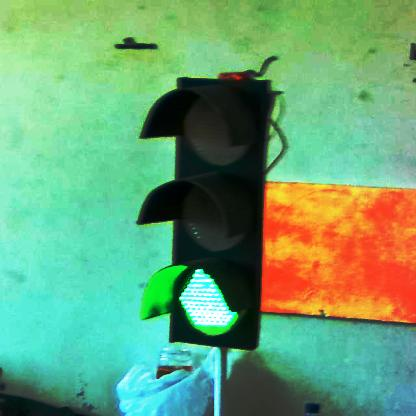Traffic Light -Green-: (139, 79, 269, 347)
